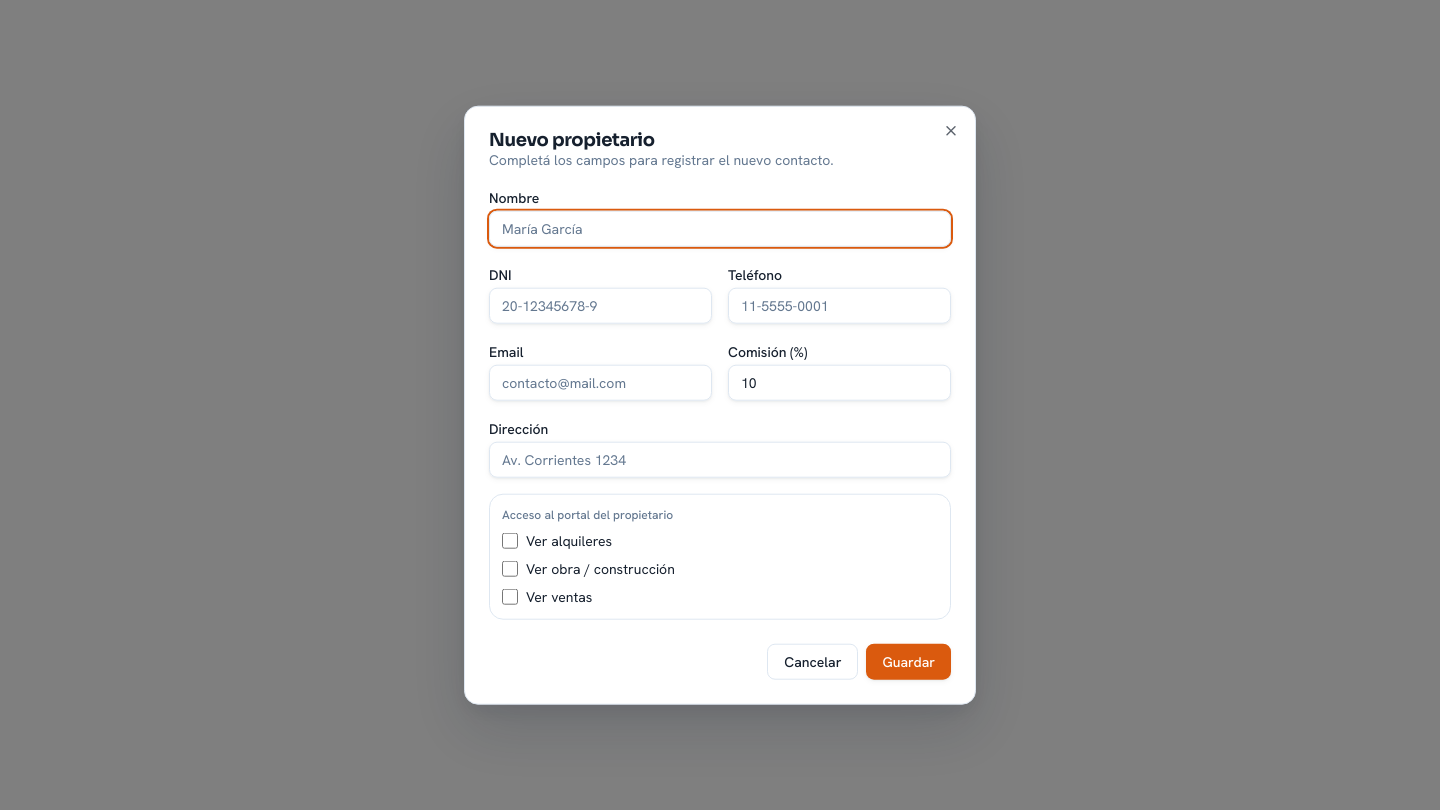
Scenario: ContactFormDialog — create mode with defaultRole='owner' › blocks submit and shows error when name is empty
Click the button "Guardar" at (909, 661), box [866,643,951,679]
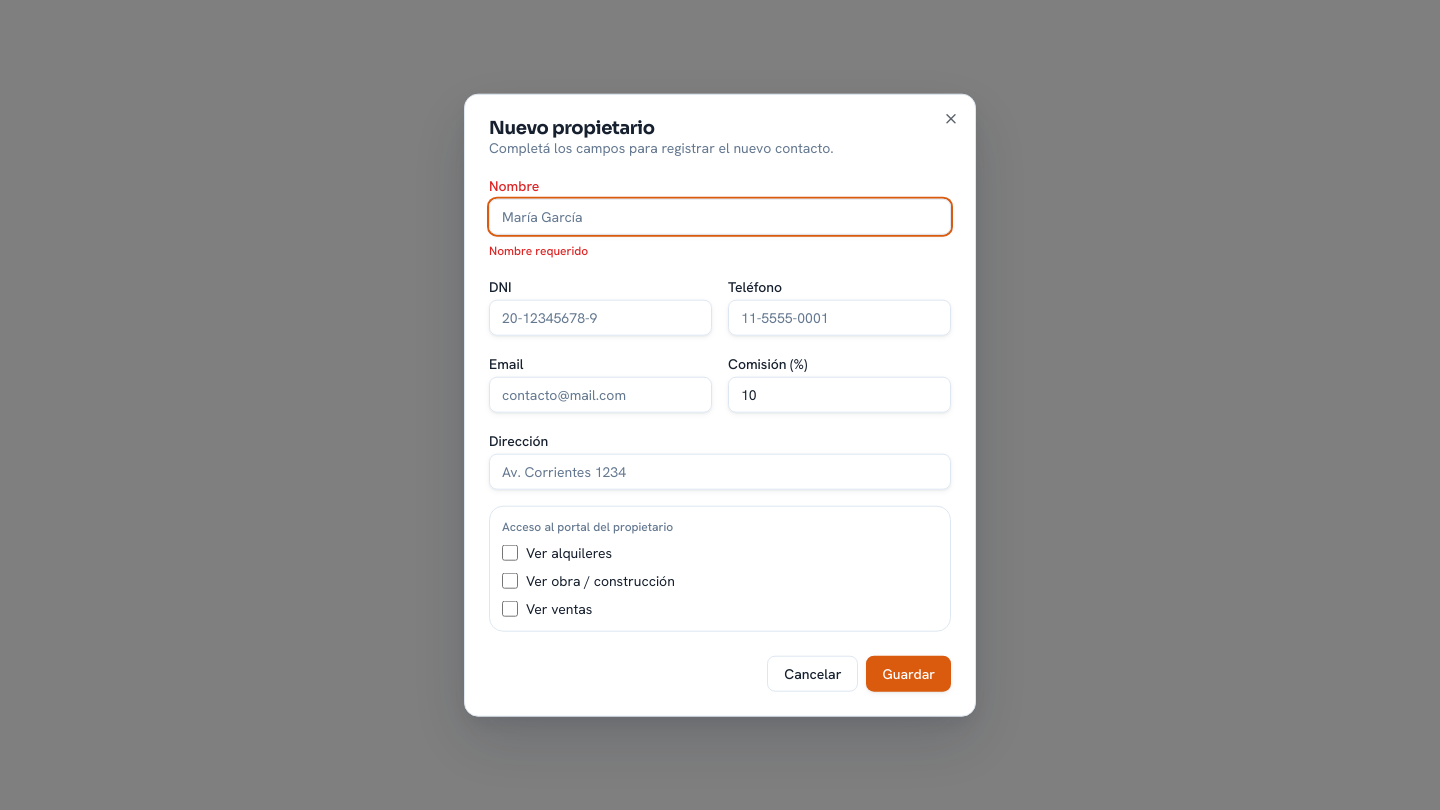
Expected: the text "Nombre requerido" is shown, [489,243,588,259]
